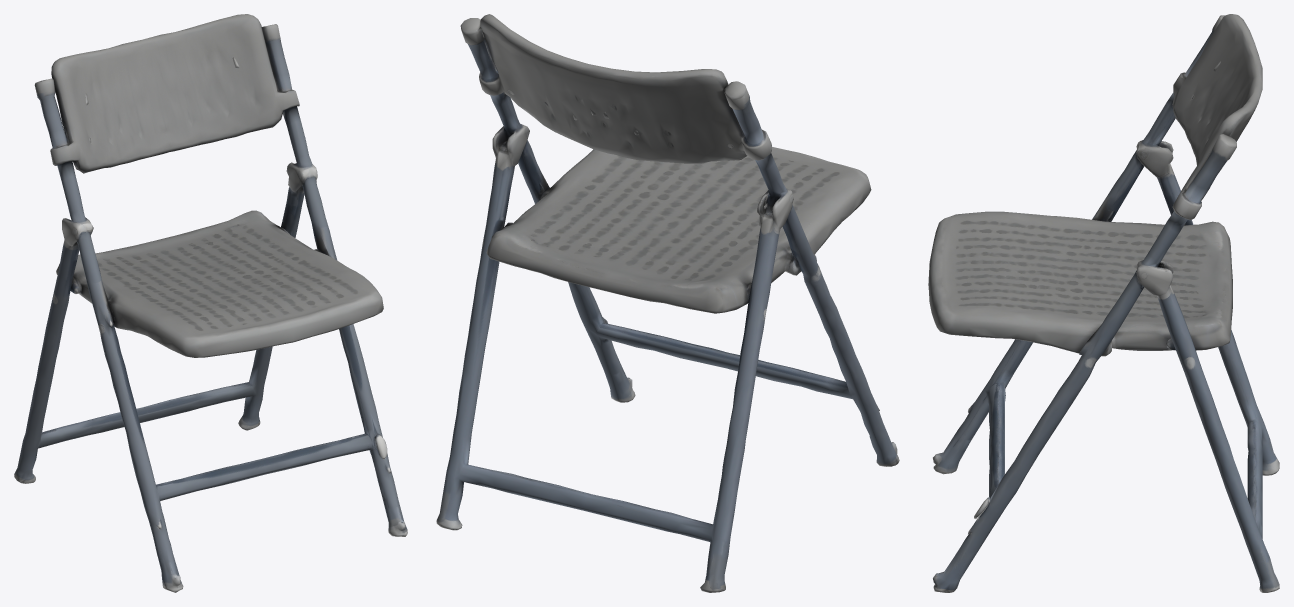
File: Zown_Premium_Brad_Cha_0320031335_texture.glb
3 views of the same model, side by side, from view 1: azimuth 30°, elevation 25°; view 2: azimuth 150°, elevation 25°; view 3: azimuth 270°, elevation 25° (orthographic). The views are drawn at different scales.
Parts seen in each view (by area): view 1: Mesh_0.001; view 2: Mesh_0.001; view 3: Mesh_0.001.
Boxes of the visible parts, x1=… form: Mesh_0.001: x1=14, y1=14, x2=407, y2=592; Mesh_0.001: x1=436, y1=14, x2=899, y2=592; Mesh_0.001: x1=928, y1=14, x2=1279, y2=592.
Size of the model in its own units: 0.5464 by 0.9144 by 0.6215.
Materials: 1 (1 with a texture image).
